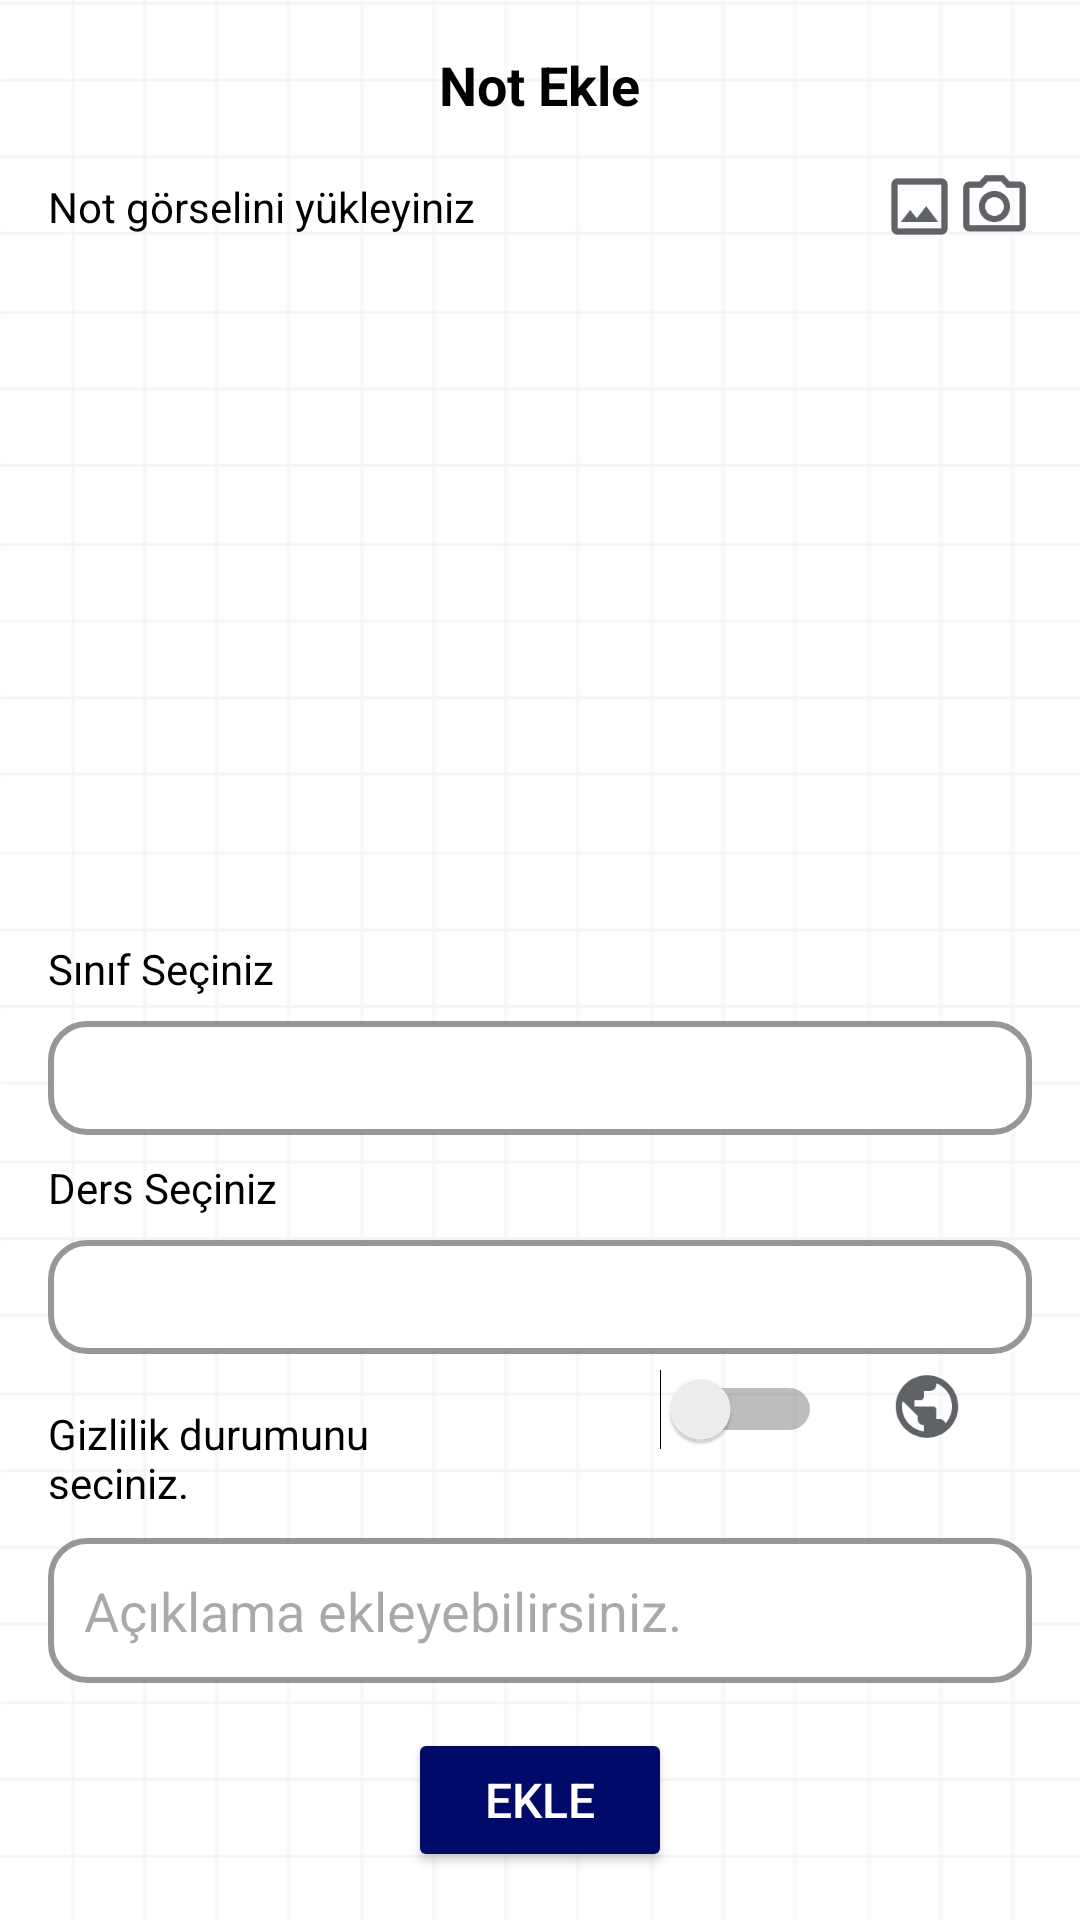

Where icons sit on this 1080*1920 app screen, as [left=x1, top=y1, right=x2, bottom=y2]:
camera: [left=963, top=175, right=1026, bottom=232]
gallery: [left=891, top=178, right=948, bottom=235]
public: [left=895, top=1375, right=959, bottom=1438]
